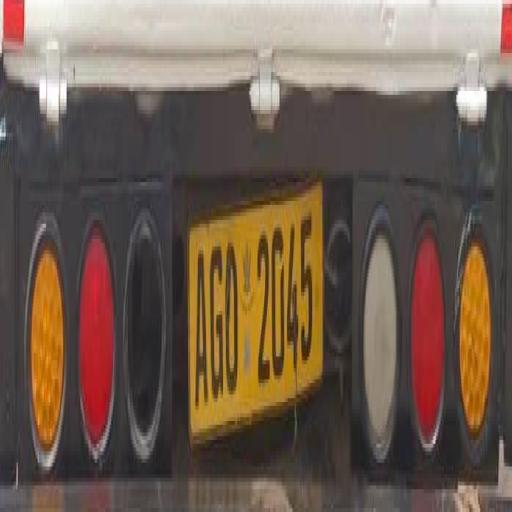number-plates: (189, 200, 322, 418)
